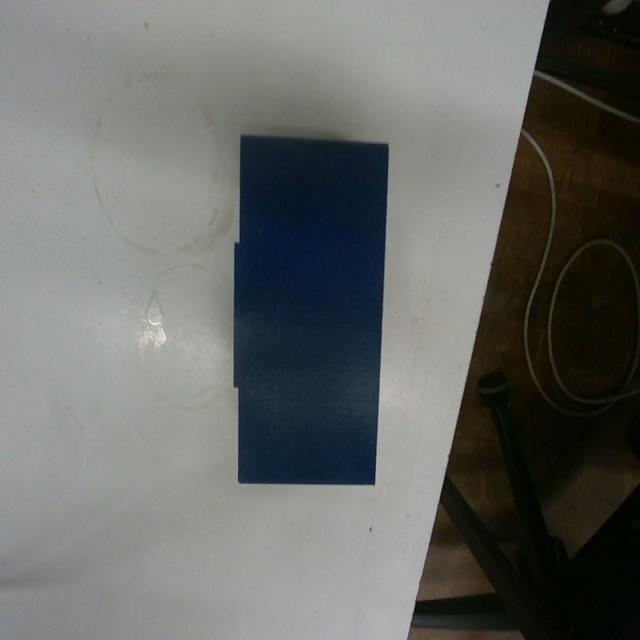Blue Cuboid: (232, 130, 390, 487)
